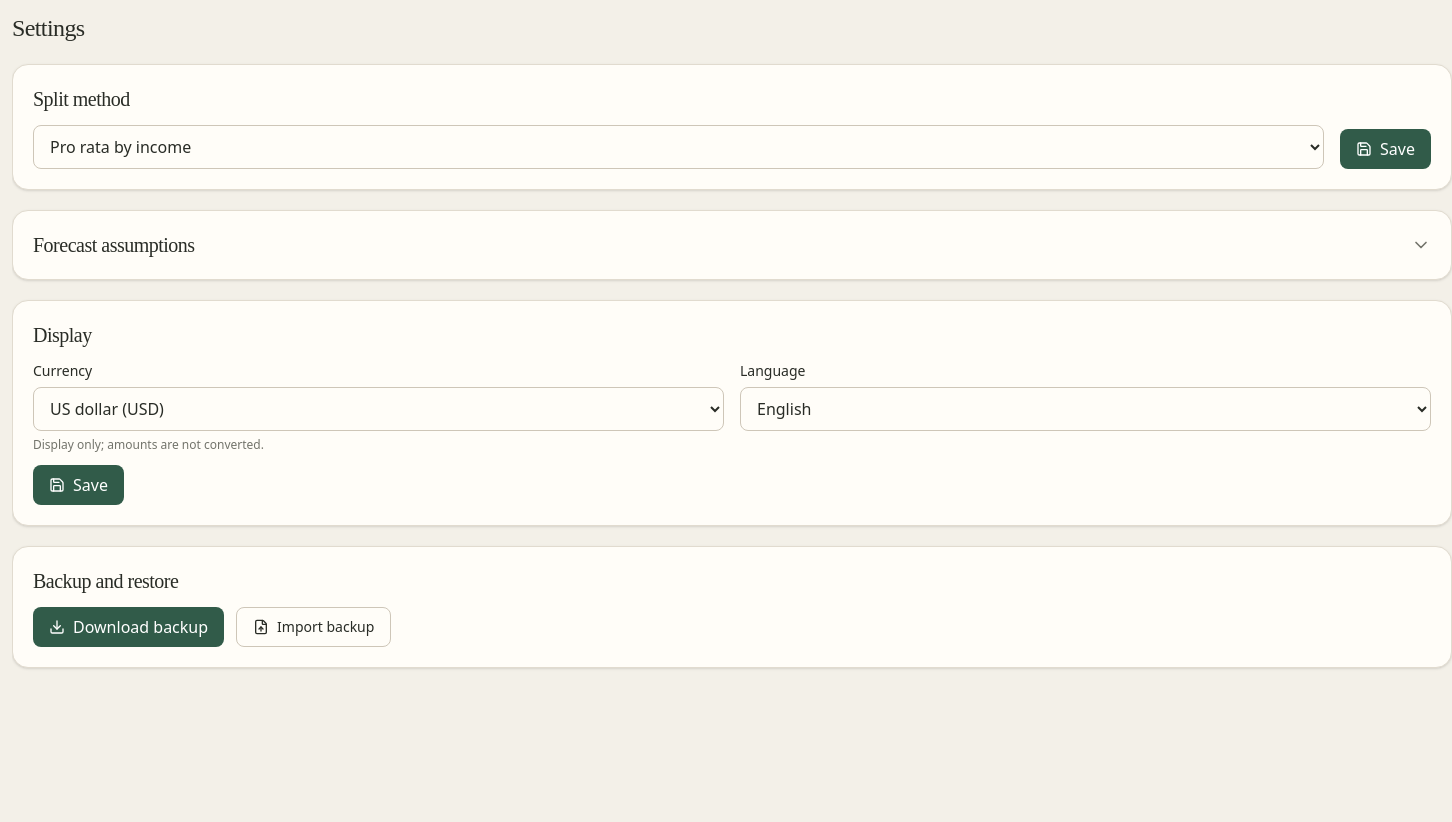
settings and backup controls › changes the display currency without changing stored amounts
The width and height of the screenshot is (1452, 822).
Select "US dollar (USD)" in the dropdown labelled "Currency": [378, 409] box x1=33 y1=387 x2=724 y2=431
Select "US dollar (USD)" in the dropdown labelled "Currency": [378, 409] box x1=33 y1=387 x2=724 y2=431
Submit the form "Currency Display only; amounts are not converted. Save", box x1=33 y1=361 x2=724 y2=505
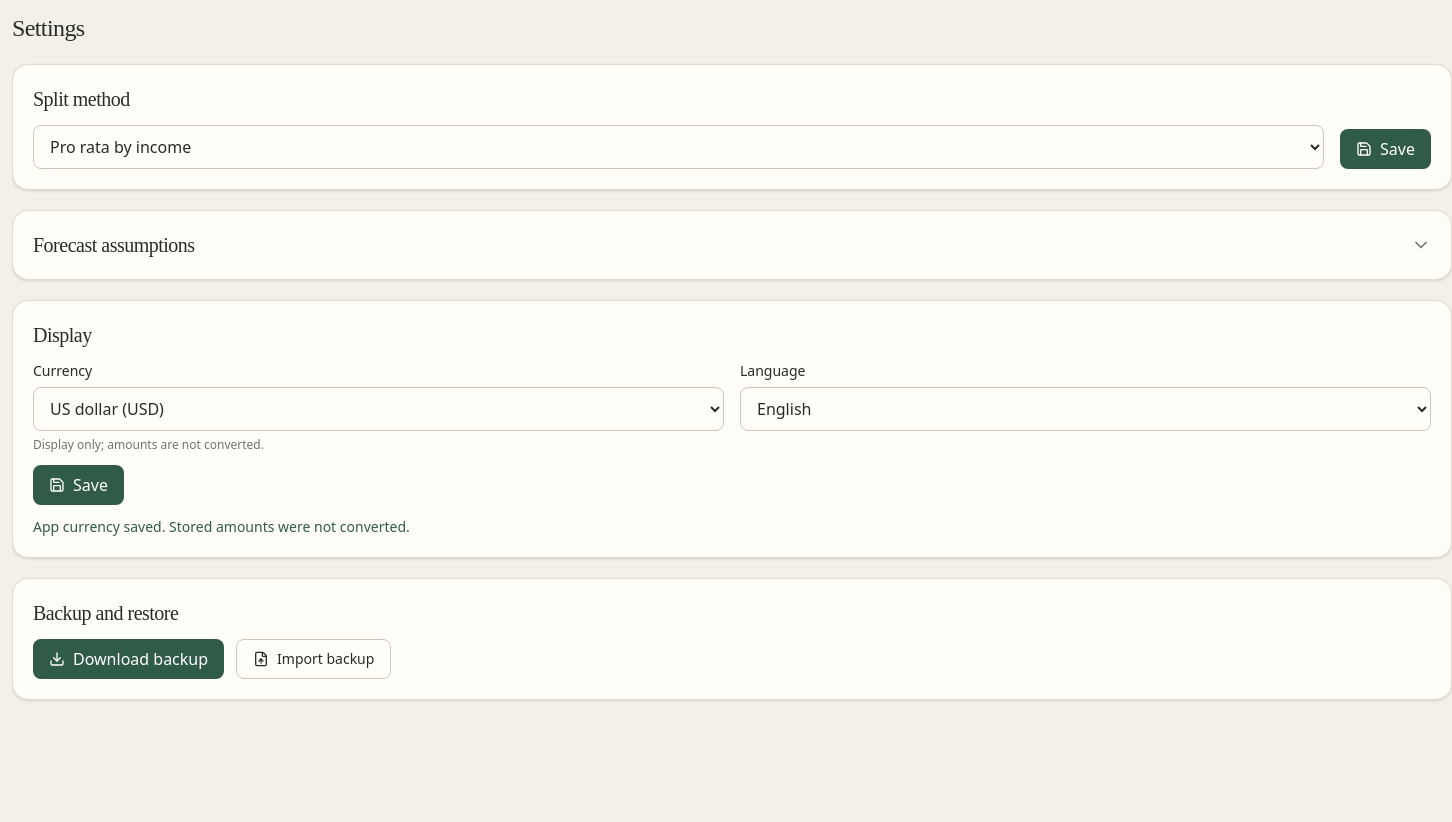
Now the text "Stored amounts were not converted." is shown, box x1=33 y1=517 x2=410 y2=536
